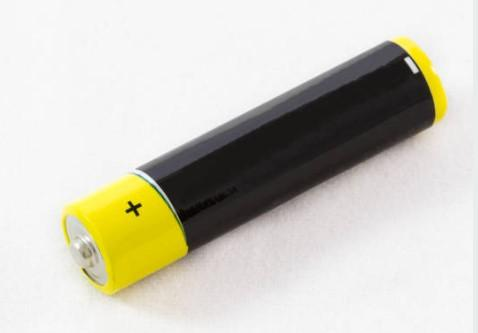Battery: (61, 36, 447, 295)
